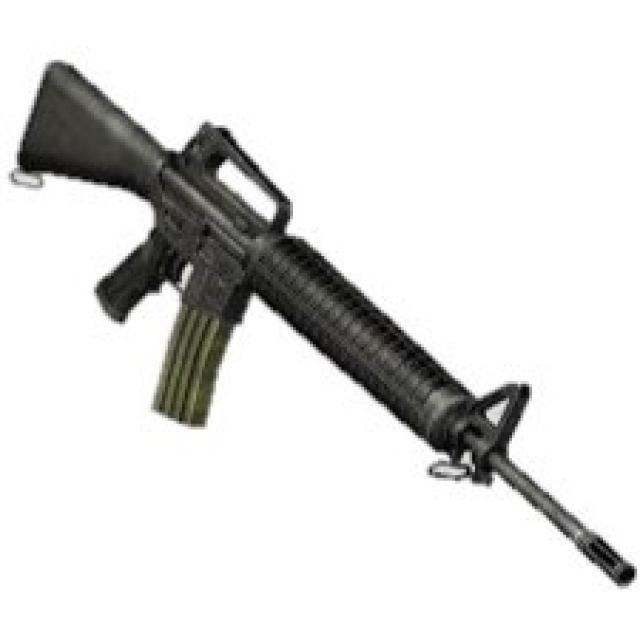rifle: (8, 46, 640, 594)
